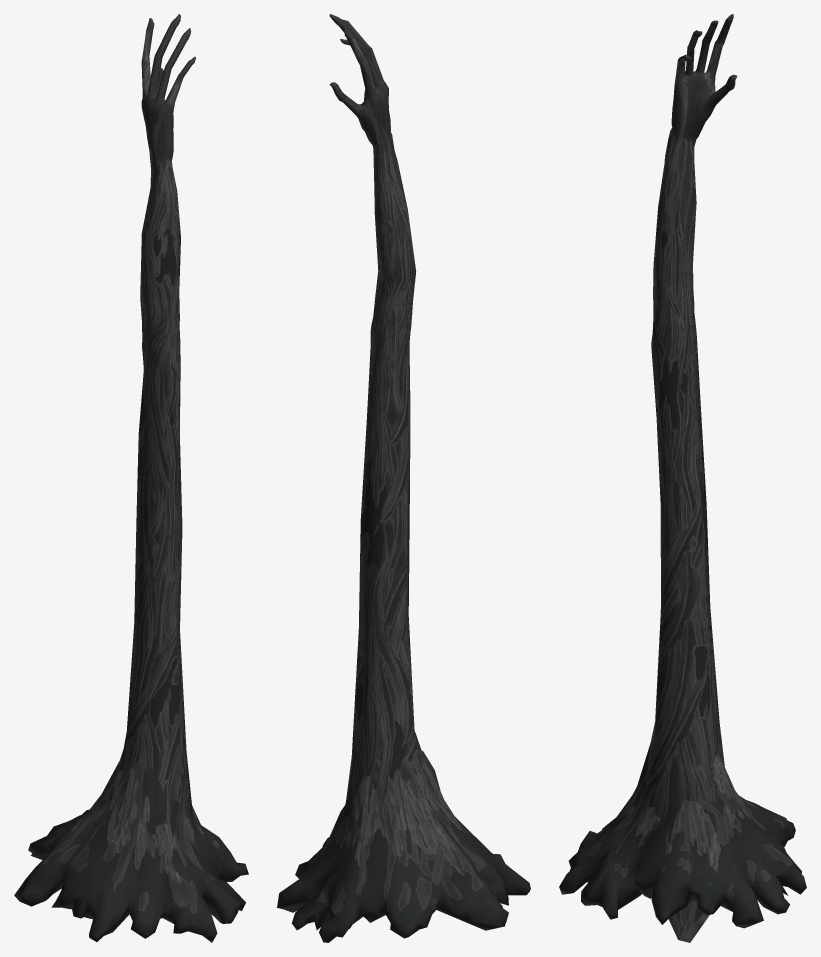
The model's file is bg_rad_kamen_deco02_sm_kjs.obj.
The picture shows the model from 3 angles, left to right: view 1: azimuth 30°, elevation 25°; view 2: azimuth 150°, elevation 25°; view 3: azimuth 270°, elevation 25°; orthographic projection. The views are drawn at different scales.
Visible parts, largest first — view 1: bg_rad_kamen_deco02_sm_kjs_0; view 2: bg_rad_kamen_deco02_sm_kjs_0; view 3: bg_rad_kamen_deco02_sm_kjs_0.
Boxes of the visible parts, bbox=[...] form: bg_rad_kamen_deco02_sm_kjs_0: bbox=[14, 14, 248, 942]; bg_rad_kamen_deco02_sm_kjs_0: bbox=[277, 14, 530, 942]; bg_rad_kamen_deco02_sm_kjs_0: bbox=[559, 14, 806, 942].
Size of the model in its own units: 1.32 by 5.43 by 1.32.
1 material, 1 textured.
